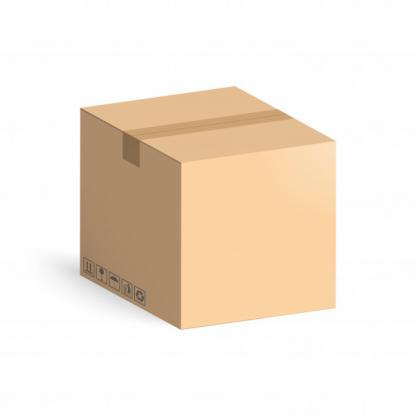box: (76, 84, 340, 330)
